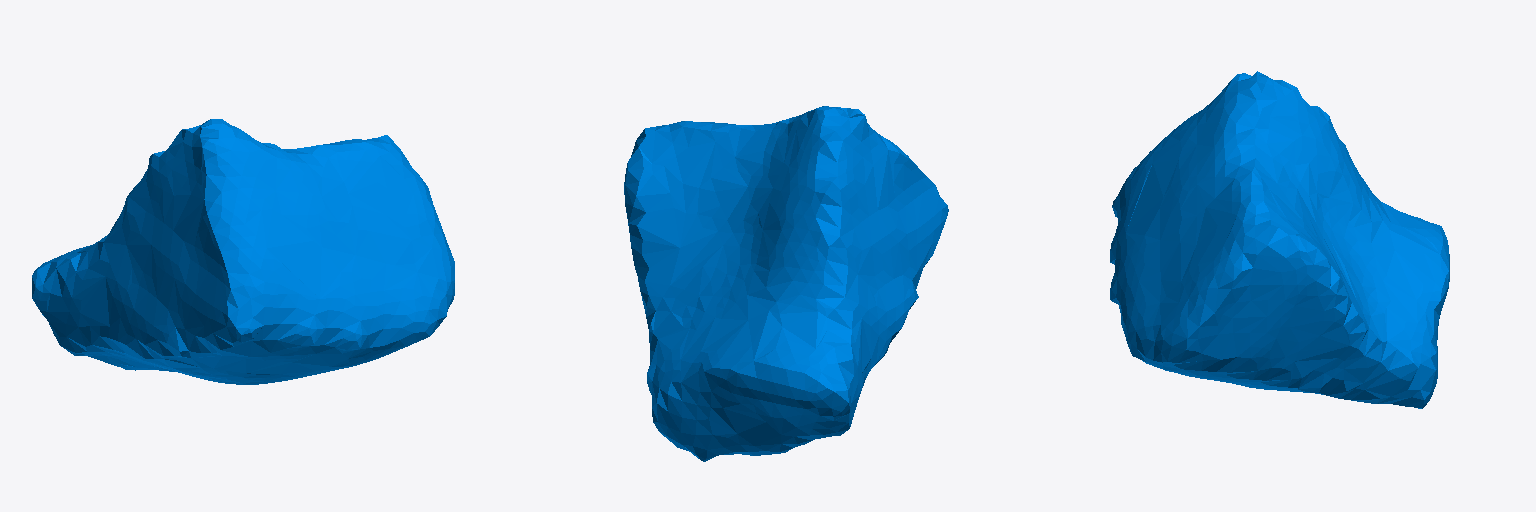
File: Model_71_RH__Area_46_of_cortex__dorsal_part_(A46D).obj
3 views of the same model, side by side, from view 1: azimuth 30°, elevation 25°; view 2: azimuth 150°, elevation 25°; view 3: azimuth 270°, elevation 25° (orthographic).
Size of the model in its own units: 1.98 by 1.91 by 1.91.